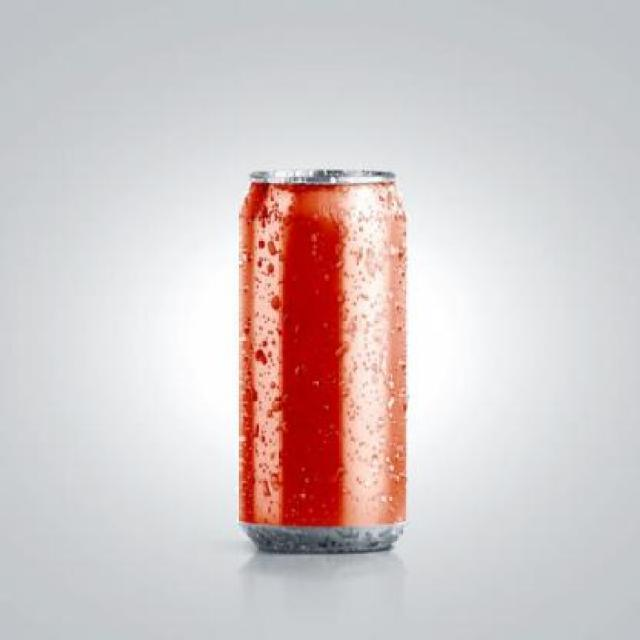can: (217, 156, 428, 566)
